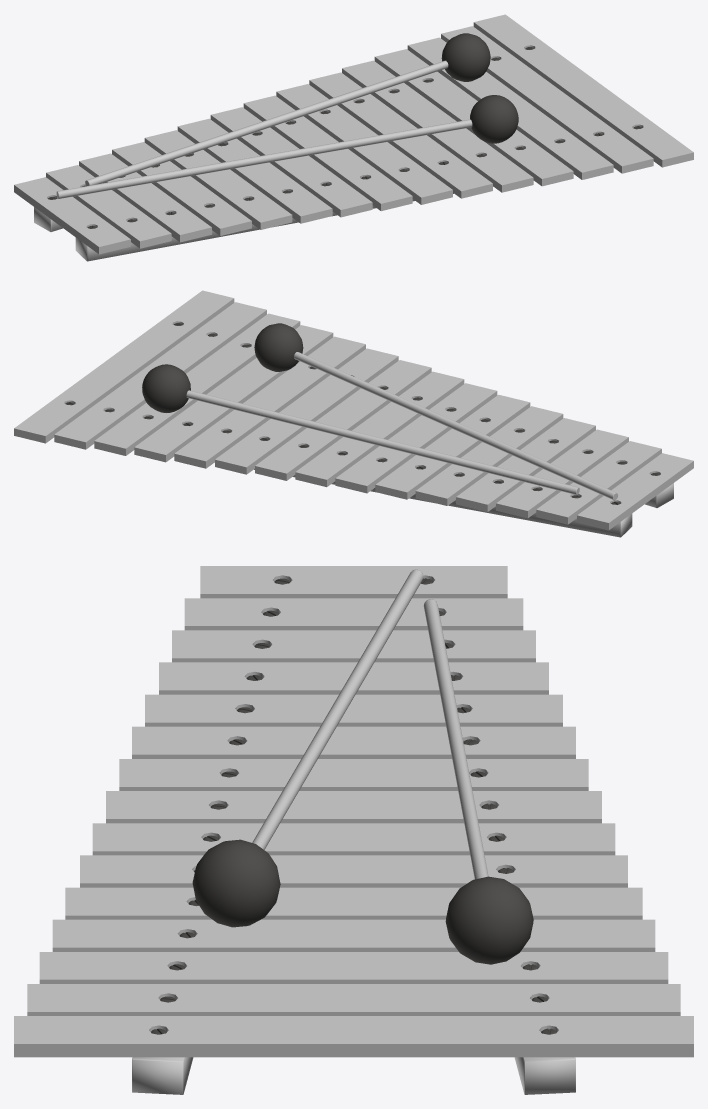
File: xylophone.obj
3 renders of one model, top to bottom at view 1: azimuth 30°, elevation 25°; view 2: azimuth 150°, elevation 25°; view 3: azimuth 270°, elevation 25°, orthographic. The views are drawn at different scales.
Visible parts, largest first — view 1: xylophone; view 2: xylophone; view 3: xylophone.
Part boxes in pixels (x1,y1,x2,y2): xylophone: [14, 14, 693, 261]; xylophone: [14, 290, 693, 537]; xylophone: [14, 566, 693, 1094].
Size of the model in its own units: 0.479 by 0.0595 by 0.2866.
